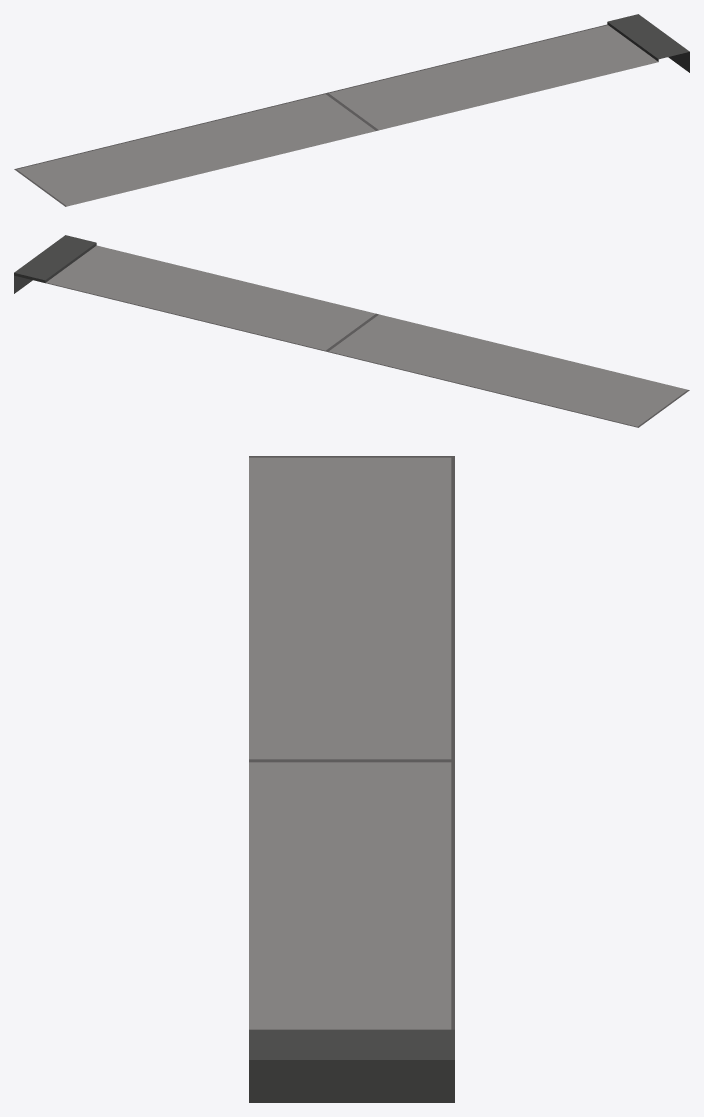
The model's file is M_SideWalk350x50_01.fbx.
3 views of the same model, one above another, from view 1: azimuth 30°, elevation 25°; view 2: azimuth 150°, elevation 25°; view 3: azimuth 270°, elevation 25° (orthographic). The views are drawn at different scales.
Visible parts, largest first — view 1: M_SideWalk350x50_01; view 2: M_SideWalk350x50_01; view 3: M_SideWalk350x50_01.
Boxes of the visible parts, x1=… form: M_SideWalk350x50_01: x1=14, y1=14, x2=689, y2=206; M_SideWalk350x50_01: x1=14, y1=235, x2=689, y2=427; M_SideWalk350x50_01: x1=249, y1=456, x2=454, y2=1102.
Size of the model in its own units: 350 by 50 by 11.5.
